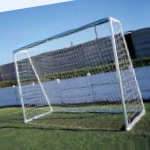goals: (11, 16, 147, 133)
